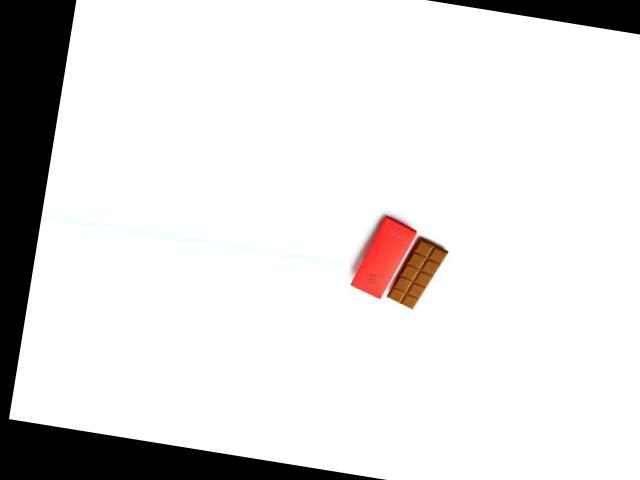chocolate: (381, 229, 450, 314)
